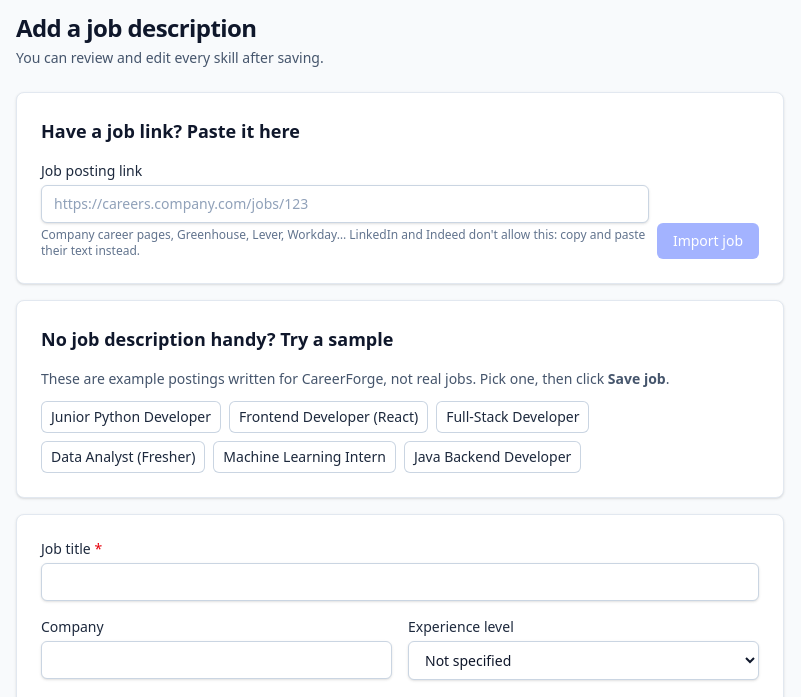
Test case: Import a job from a link › explains sites that can't be imported
Step 1. Type "https://www.linkedin.com/jobs/view/1" into the field labelled "Job posting link" → (345, 204), box top-left (41, 185), bottom-right (649, 223)
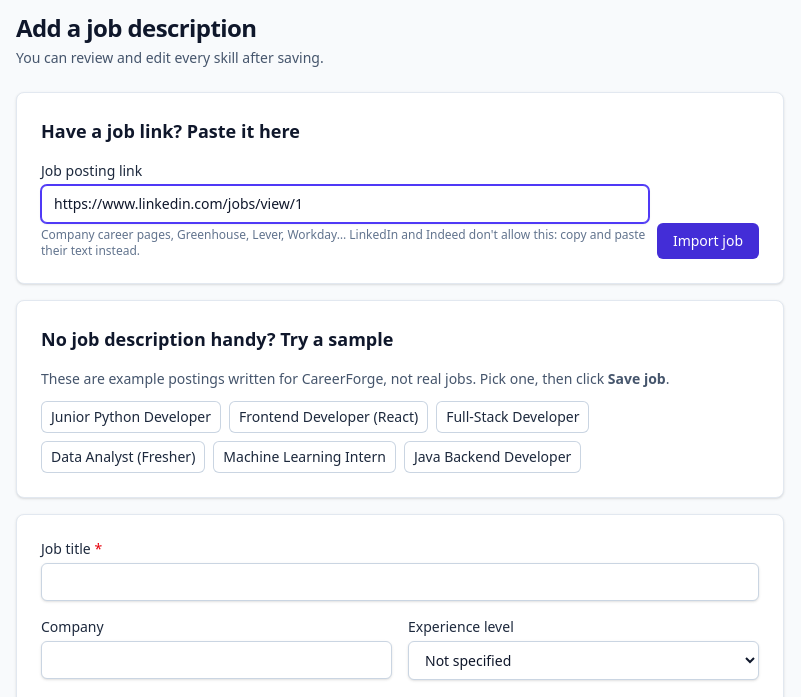
Step 2. Click the button "Import job" → (708, 241), box top-left (657, 223), bottom-right (759, 259)
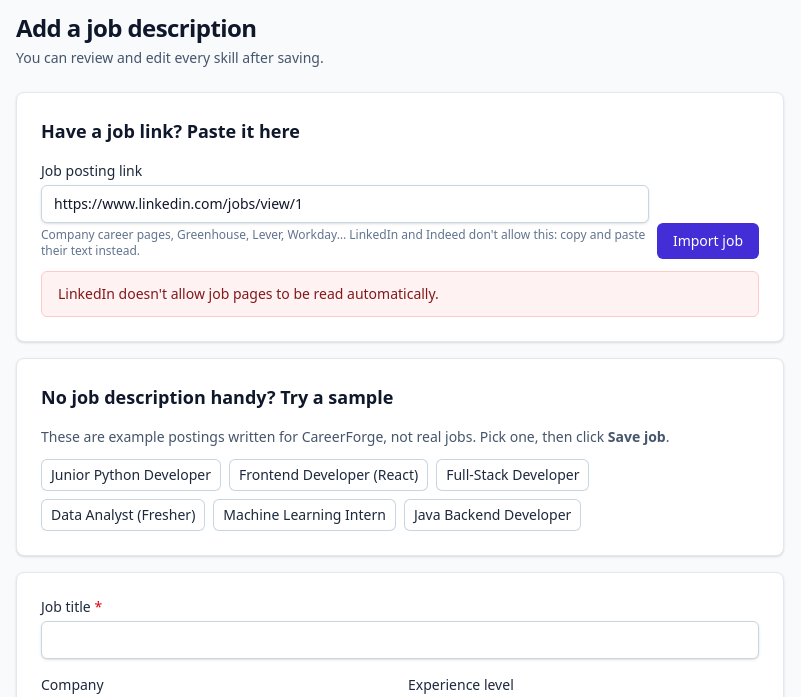
Check: the field labelled "Job title *" is empty, box top-left (41, 621), bottom-right (759, 659)
Check: the message shows "LinkedIn doesn't allow", box top-left (58, 284), bottom-right (439, 303)
